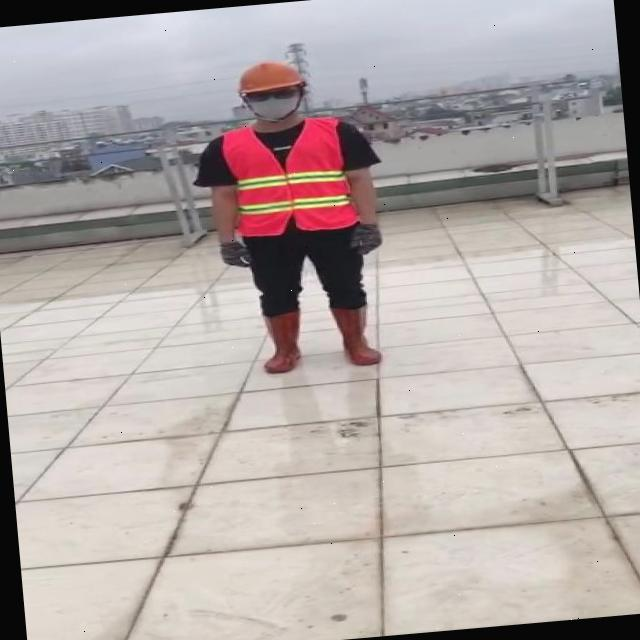boots: (329, 300, 386, 368), (255, 309, 312, 374)
